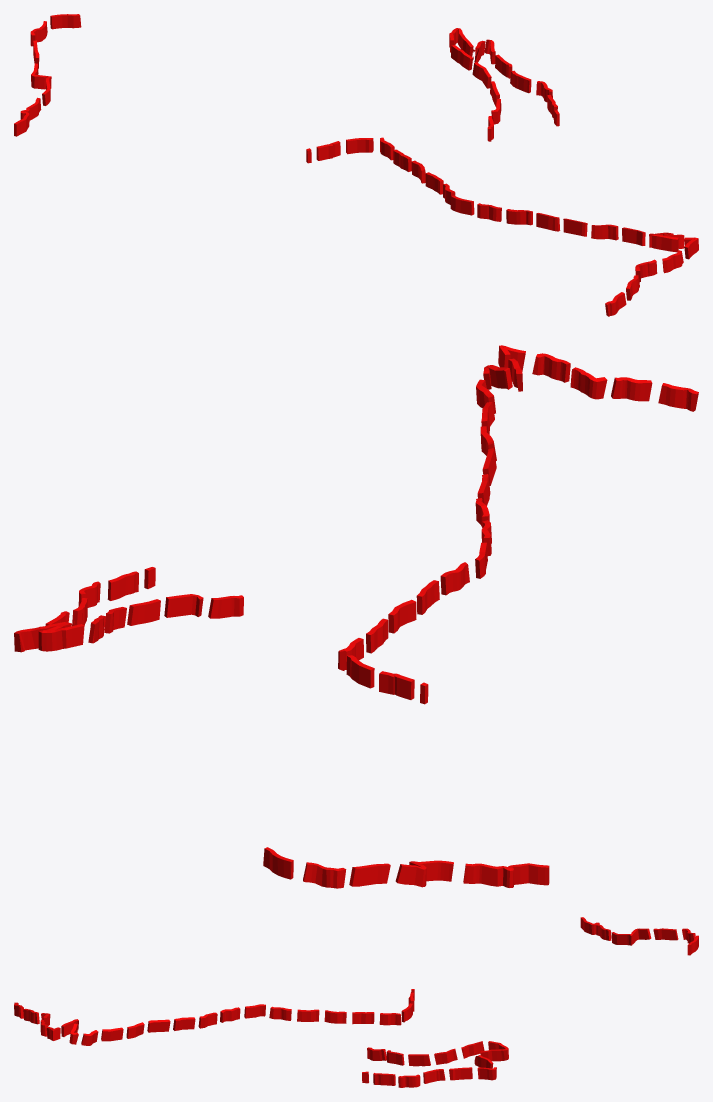
Rendered from new_roads_mariusz.fbx.
3 views of the same model, one above another, from view 1: azimuth 30°, elevation 25°; view 2: azimuth 150°, elevation 25°; view 3: azimuth 270°, elevation 25° (orthographic). The views are drawn at different scales.
Visible parts, largest first — view 1: szlak bajkowy, szlak wspomnien, szlak_myśliwski; view 2: szlak bajkowy, szlak wspomnien, szlak_myśliwski; view 3: szlak bajkowy, szlak wspomnien, szlak_myśliwski.
Boxes of the visible parts, left/top/right/bottom form: szlak bajkowy: left=306, top=137, right=698, bottom=316; szlak wspomnien: left=449, top=28, right=559, bottom=141; szlak_myśliwski: left=14, top=14, right=81, bottom=136; szlak bajkowy: left=338, top=345, right=698, bottom=704; szlak wspomnien: left=14, top=567, right=243, bottom=652; szlak_myśliwski: left=263, top=847, right=549, bottom=888; szlak bajkowy: left=14, top=989, right=414, bottom=1045; szlak wspomnien: left=362, top=1041, right=508, bottom=1087; szlak_myśliwski: left=580, top=917, right=698, bottom=955.
Bounding box in the file's own units: 5310 × 581 × 9032.
